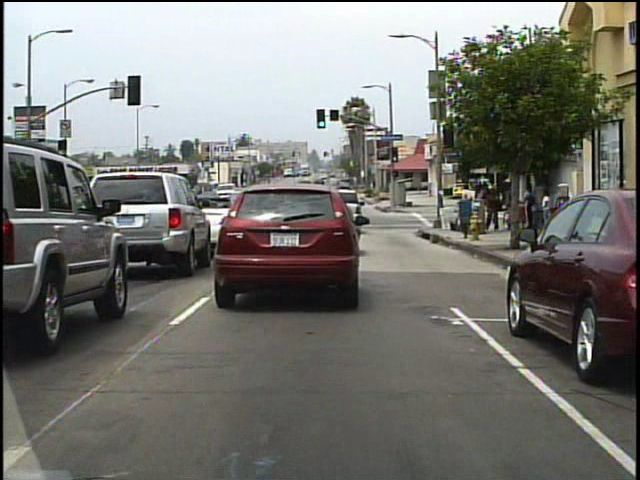person: (484, 183, 503, 235), (524, 184, 540, 232), (539, 188, 554, 229), (507, 187, 519, 225)
